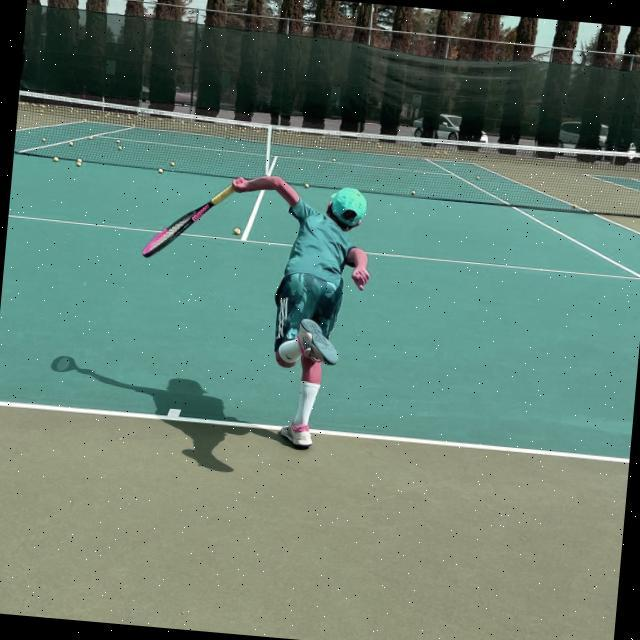court: (0, 146, 640, 497)
net: (12, 94, 640, 220)
player: (120, 144, 382, 460)
